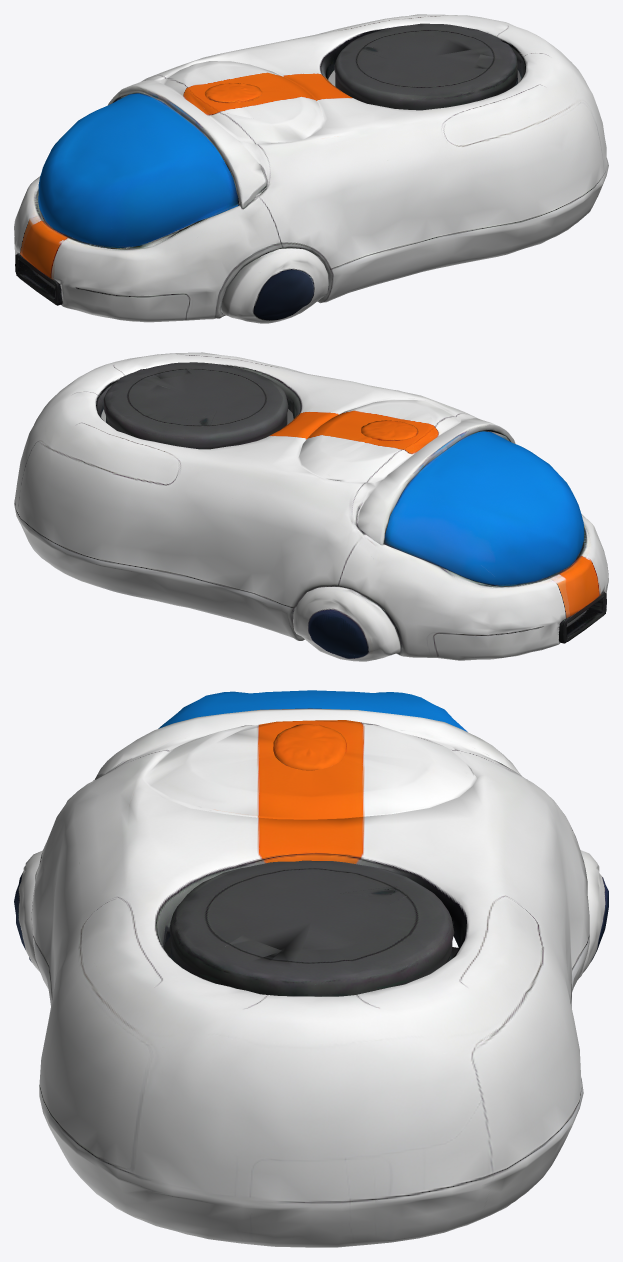
Rendered from Meshy_AI_Blue_Dome_Capsule_0714152008_texture.glb.
3 renders of one model, top to bottom at view 1: azimuth 30°, elevation 25°; view 2: azimuth 150°, elevation 25°; view 3: azimuth 270°, elevation 25°, orthographic. The views are drawn at different scales.
Bounding box in the file's own units: 1 × 0.291 × 0.5977.
Materials: 1 (1 with a texture image).
